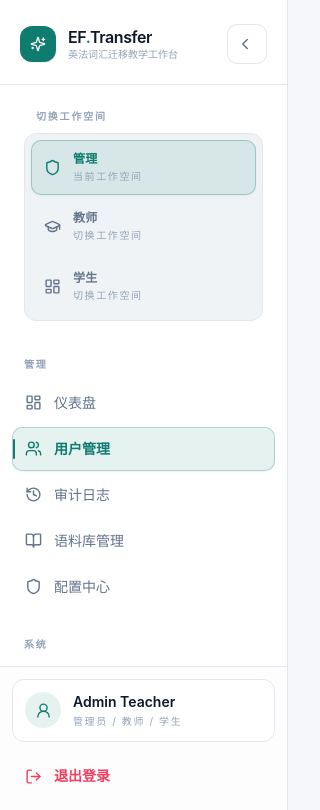
Test: Sidebar workspace navigation › shows only the current workspace navigation and switches route/context together
Check: the text "用户管理" is shown, box [54,440,110,456]
Check: the text "教师工作台" is not shown
Click the button "教师 切换工作空间".
click(144, 227)  # box [31,199,256,254]
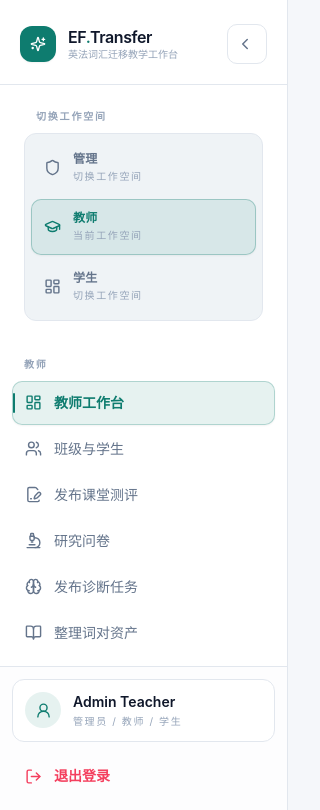
Check: the text "教师工作台" is shown, box [54,394,124,410]
Check: the link "用户管理" is gone
